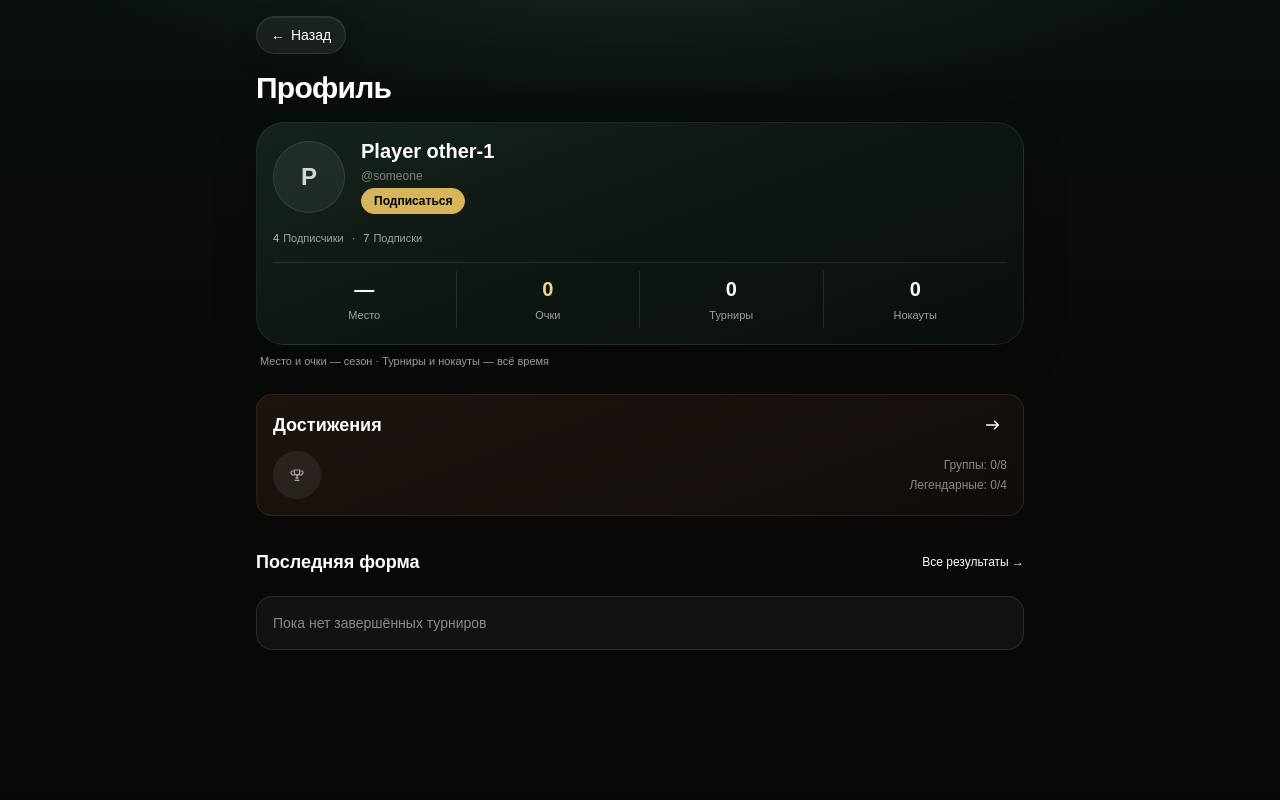
Test: followers / following lists › clicking Подписчики opens the followers sheet (title + GET /followers, first page)
This screenshot has width=1280, height=800.
What coordinates should you click on to do the following:
click the button with test id "follow-followers"
I would click on:
 (308, 238)
Its box is [273,230,344,246].
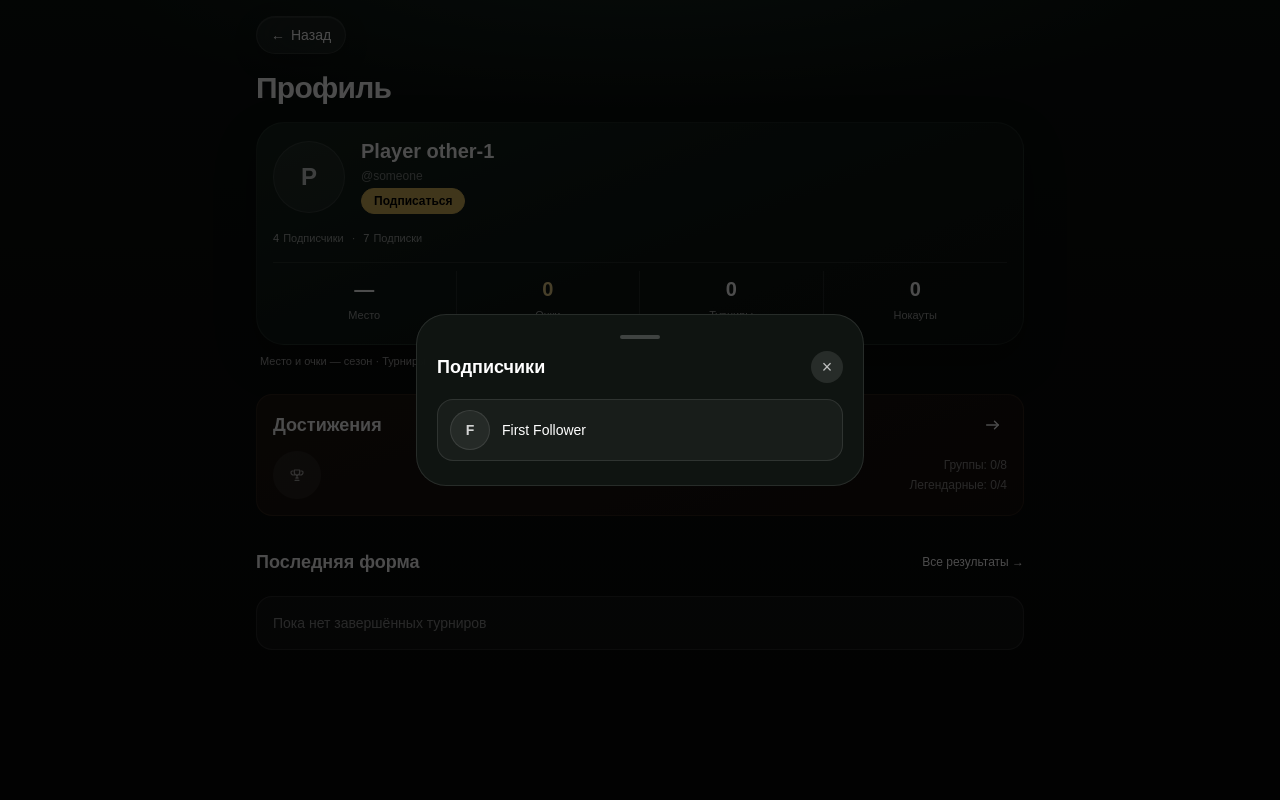
Now the heading "Подписчики" is shown, box [437,353,545,381]
Now the dialog shows "First Follower", box [437,399,843,461]
